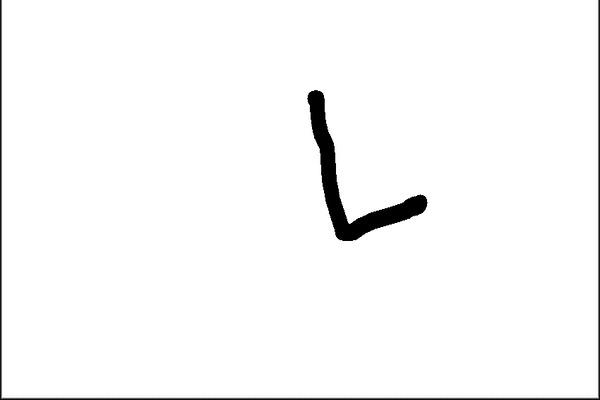L: (299, 80, 434, 246)
